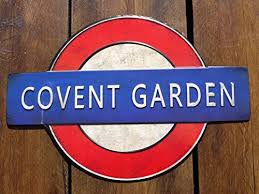London Underground: (7, 15, 249, 181)
